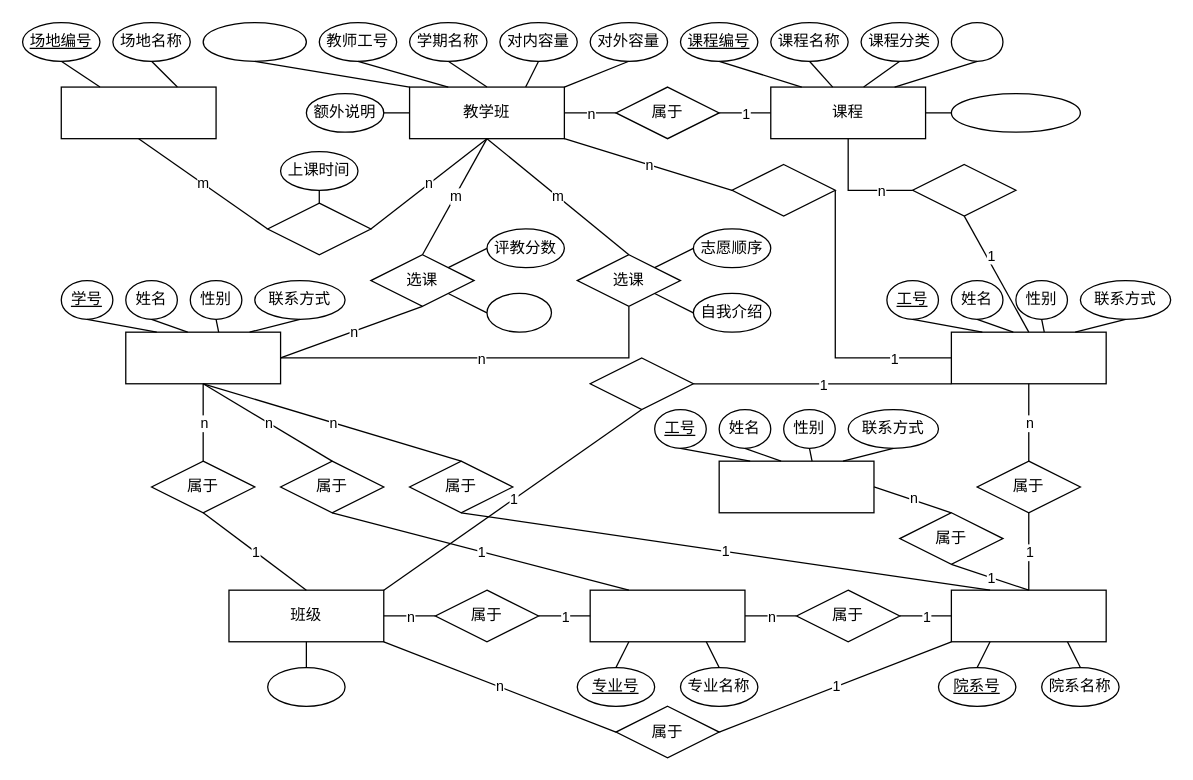
The diagram is 1193 pixels wide and 780 high, and some of its shapes have lost their labels. The shapes that lost their labels are listed below. From the top down, each one's box as (x1, y1, x2, y2) in pixels, then its label:
(202, 21, 306, 61): 教学班编号
(950, 21, 1003, 61): 学分
(60, 86, 216, 139): 场地
(950, 92, 1080, 132): 申报教师工号
(731, 163, 835, 216): 开设
(911, 163, 1016, 216): 申报
(266, 202, 371, 255): 占用
(486, 292, 551, 332): 成绩
(124, 331, 281, 384): 学生
(950, 331, 1106, 384): 教师
(589, 357, 693, 410): 班主任
(718, 460, 874, 513): 学院教务
(589, 589, 745, 642): 专业
(950, 589, 1106, 642): 院系
(266, 666, 345, 706): 班级号
